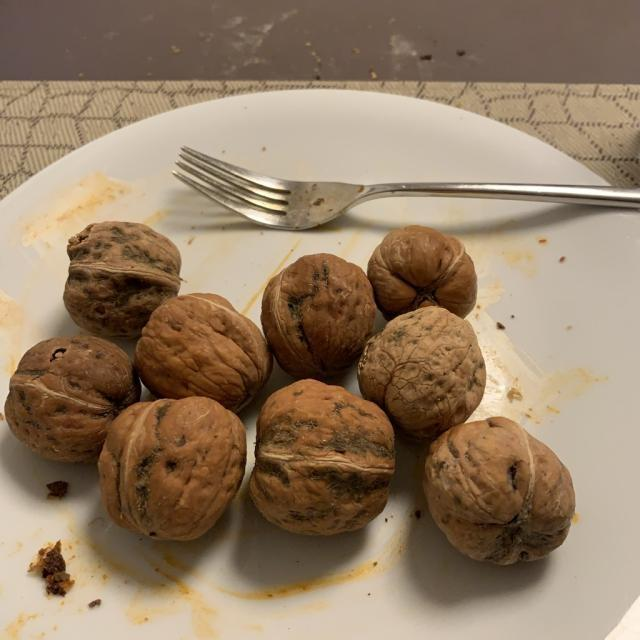walnut: (17, 226, 564, 562)
